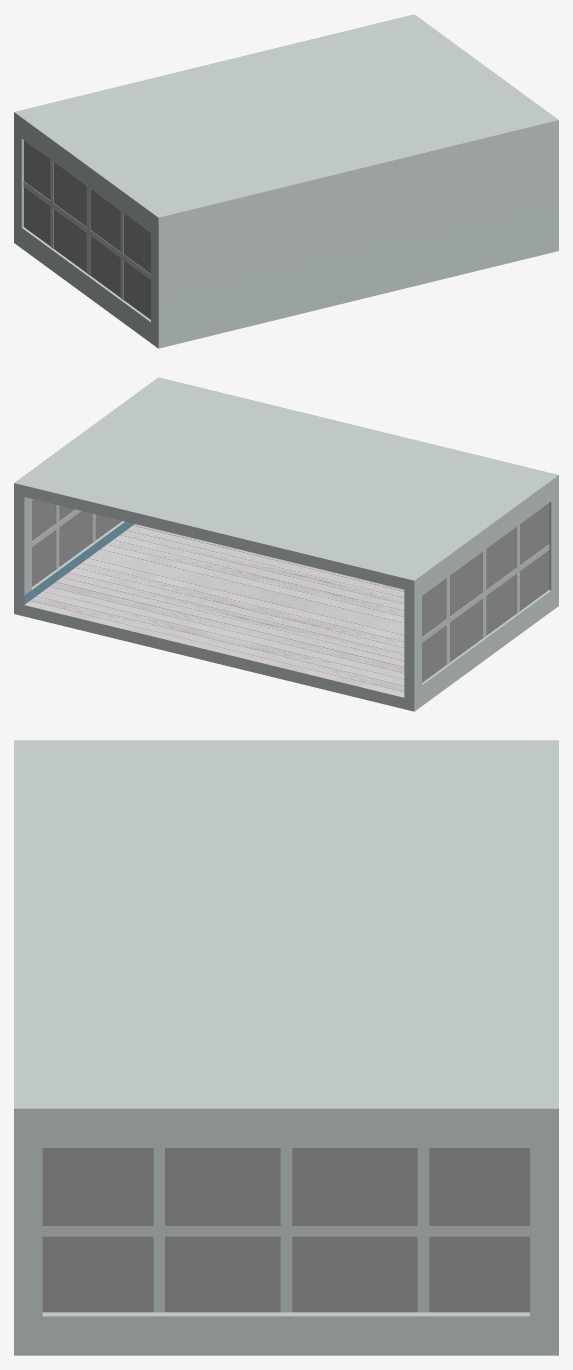
File: Platform_2.fbx
3 renders of one model, top to bottom at view 1: azimuth 30°, elevation 25°; view 2: azimuth 150°, elevation 25°; view 3: azimuth 270°, elevation 25°, orthographic. The views are drawn at different scales.
Visible parts, largest first — view 1: pCube15; view 2: pCube15; view 3: pCube15.
Part boxes in pixels (x1,y1,x2,y2): pCube15: [14, 14, 558, 348]; pCube15: [14, 377, 558, 711]; pCube15: [14, 740, 558, 1355].
Bounding box in the file's own units: 3200 × 1000 × 2000.
Materials: 3 (2 with a texture image).
